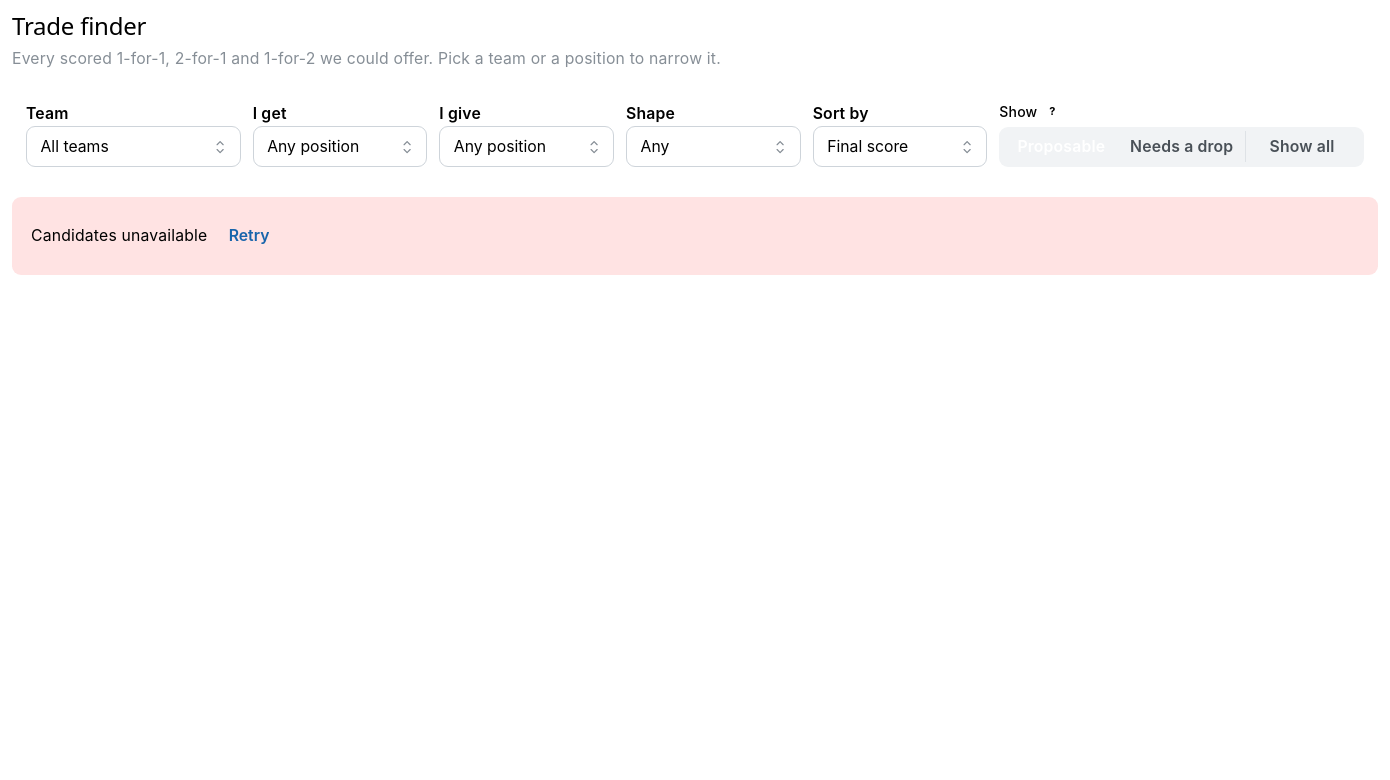
Test: shows an error with retry without claiming the list is empty
Check: the message "Candidates unavailable Retry" is shown, box x1=12 y1=197 x2=1378 y2=276
What coordinates should you click on to do the following:
click the button "Retry"
I would click on:
 (249, 236)
Its box is x1=208 y1=216 x2=291 y2=256.
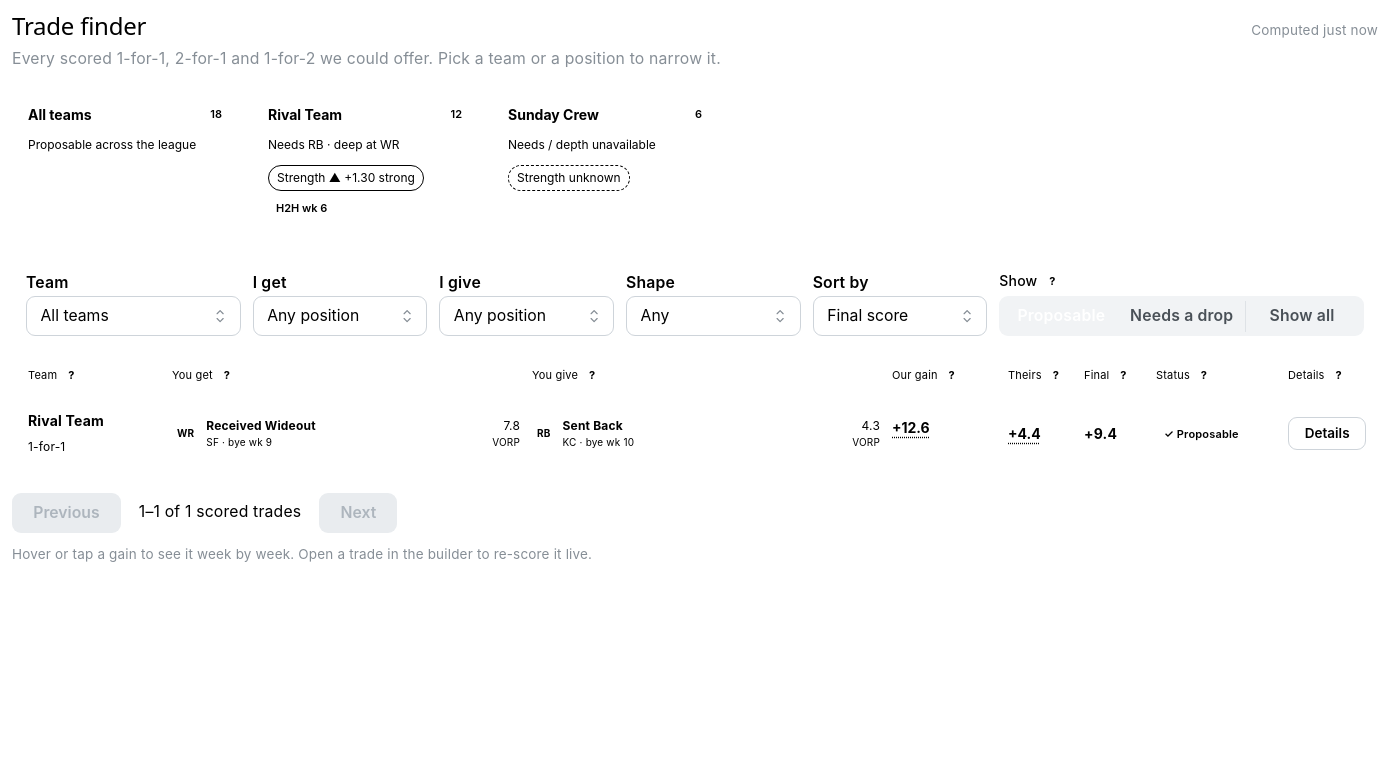
Check: the text "Received Wideout" is shown, box x1=206 y1=418 x2=316 y2=433
